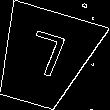L_S: (18, 29, 71, 87)
